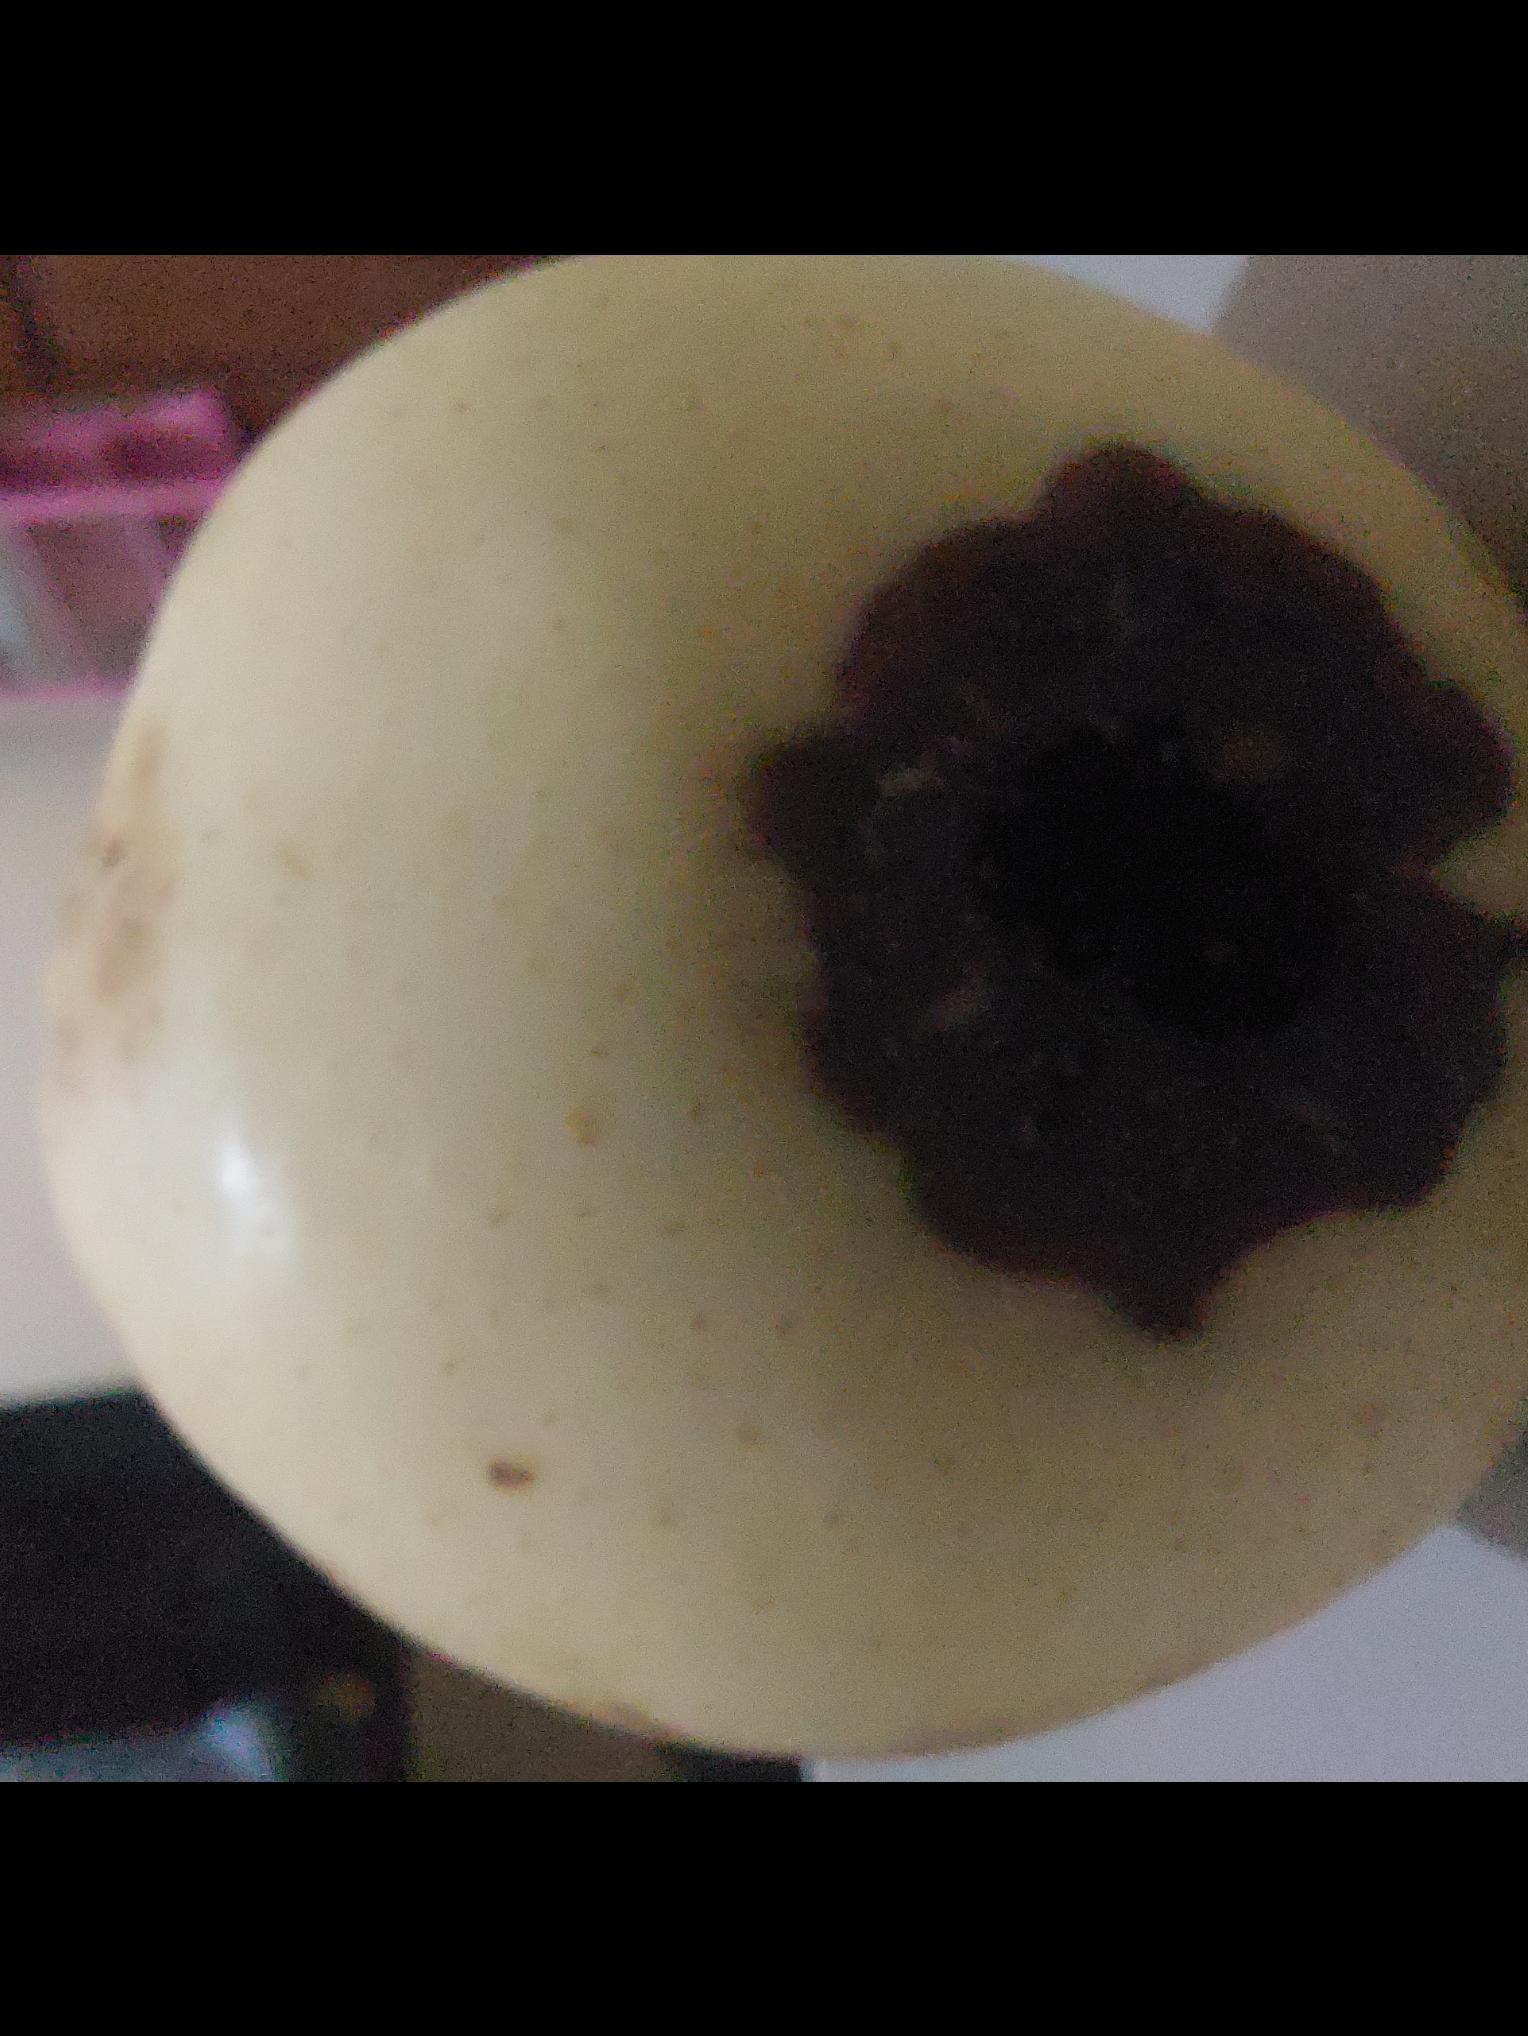Bad Pear: (47, 253, 1528, 1783)
